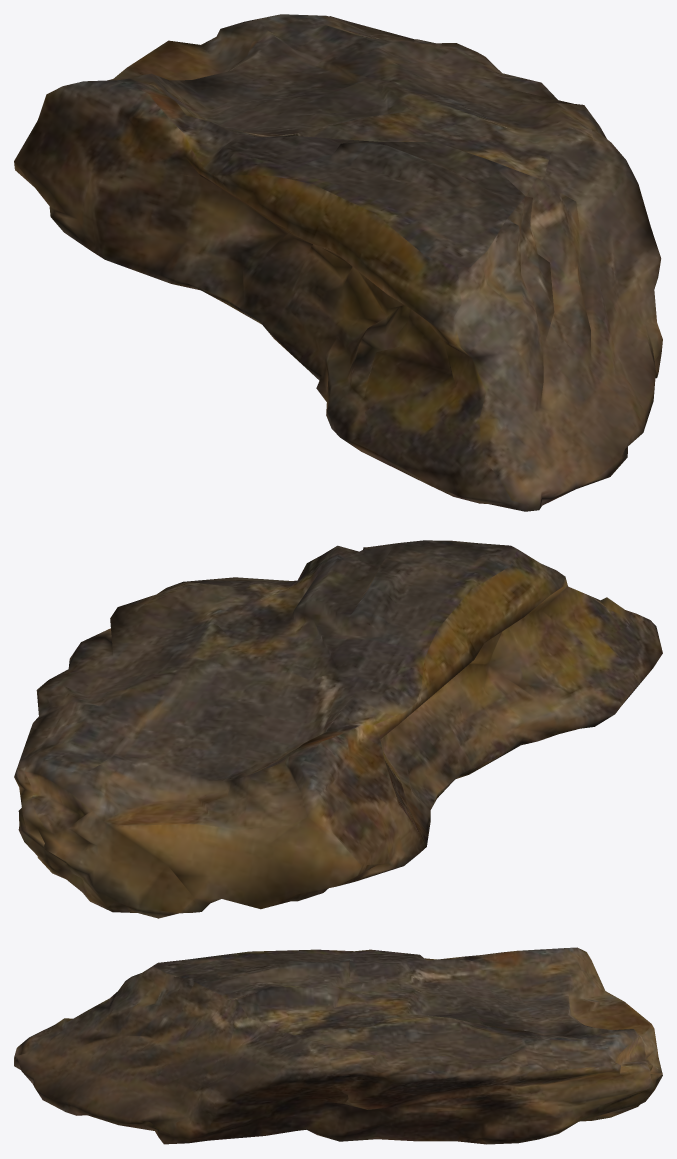
The model's file is rock-b.glb.
3 views of the same model, one above another, from view 1: azimuth 30°, elevation 25°; view 2: azimuth 150°, elevation 25°; view 3: azimuth 270°, elevation 25° (orthographic). The views are drawn at different scales.
Parts seen in each view (by area): view 1: rock_09_LOD0; view 2: rock_09_LOD0; view 3: rock_09_LOD0.
Part boxes in pixels (x1=…): rock_09_LOD0: x1=14, y1=14, x2=662, y2=511; rock_09_LOD0: x1=14, y1=540, x2=662, y2=918; rock_09_LOD0: x1=14, y1=947, x2=662, y2=1144.
Bounding box in the file's own units: 0.0738 × 0.0326 × 0.1446.
1 material, 1 textured.
